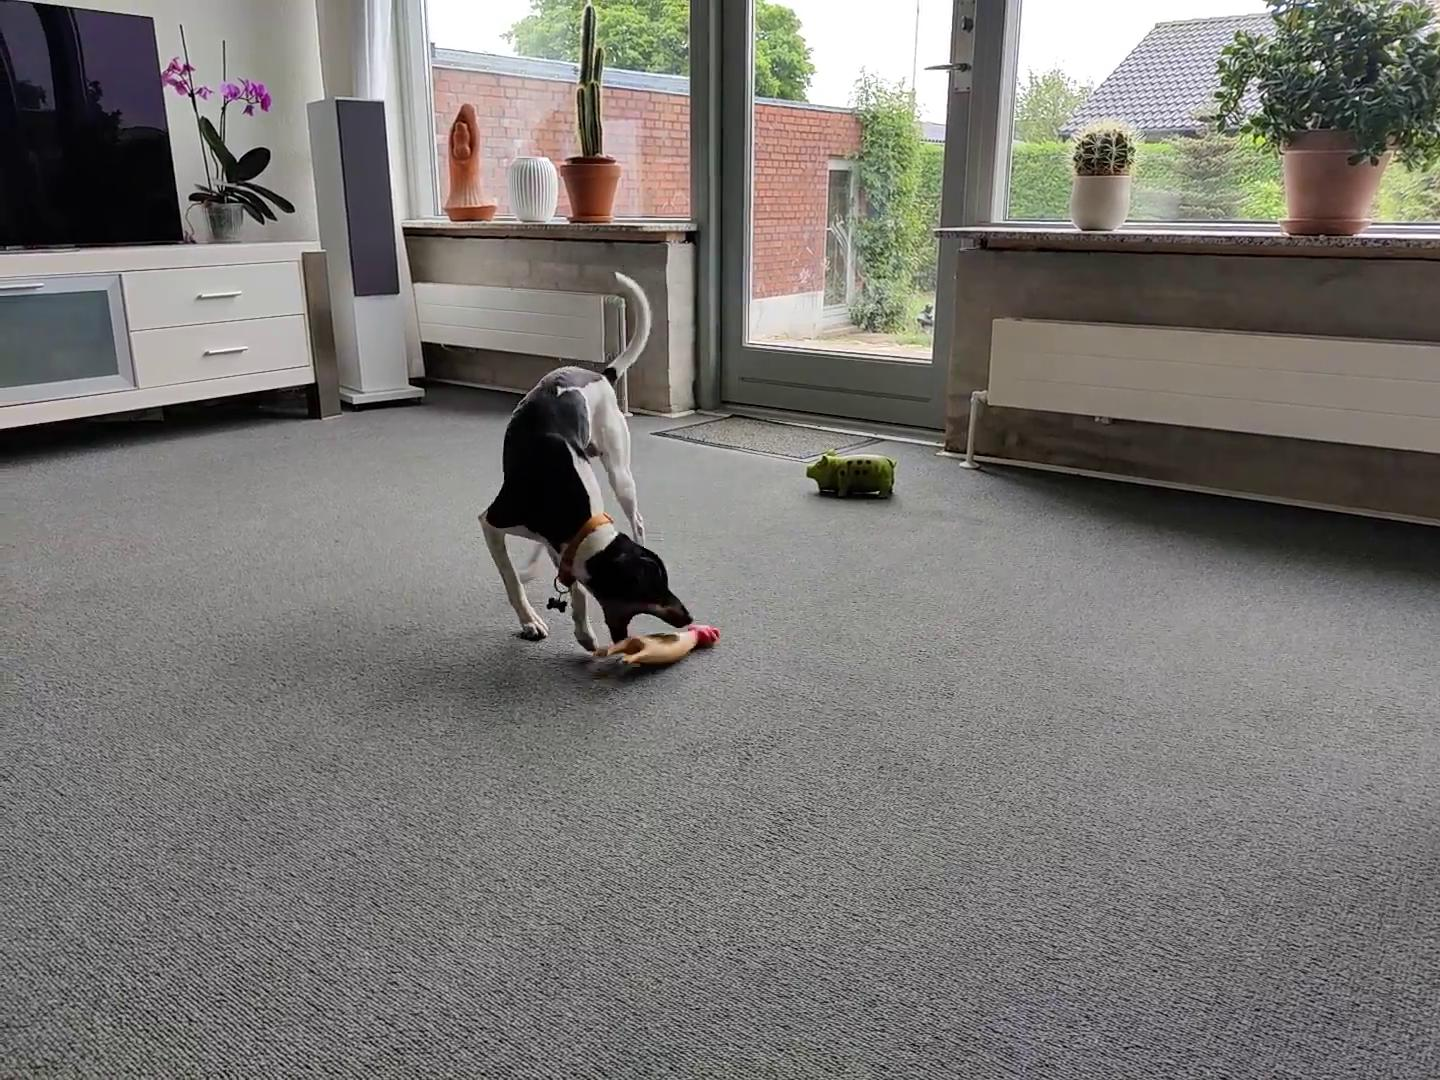Dog: (463, 263, 704, 653)
